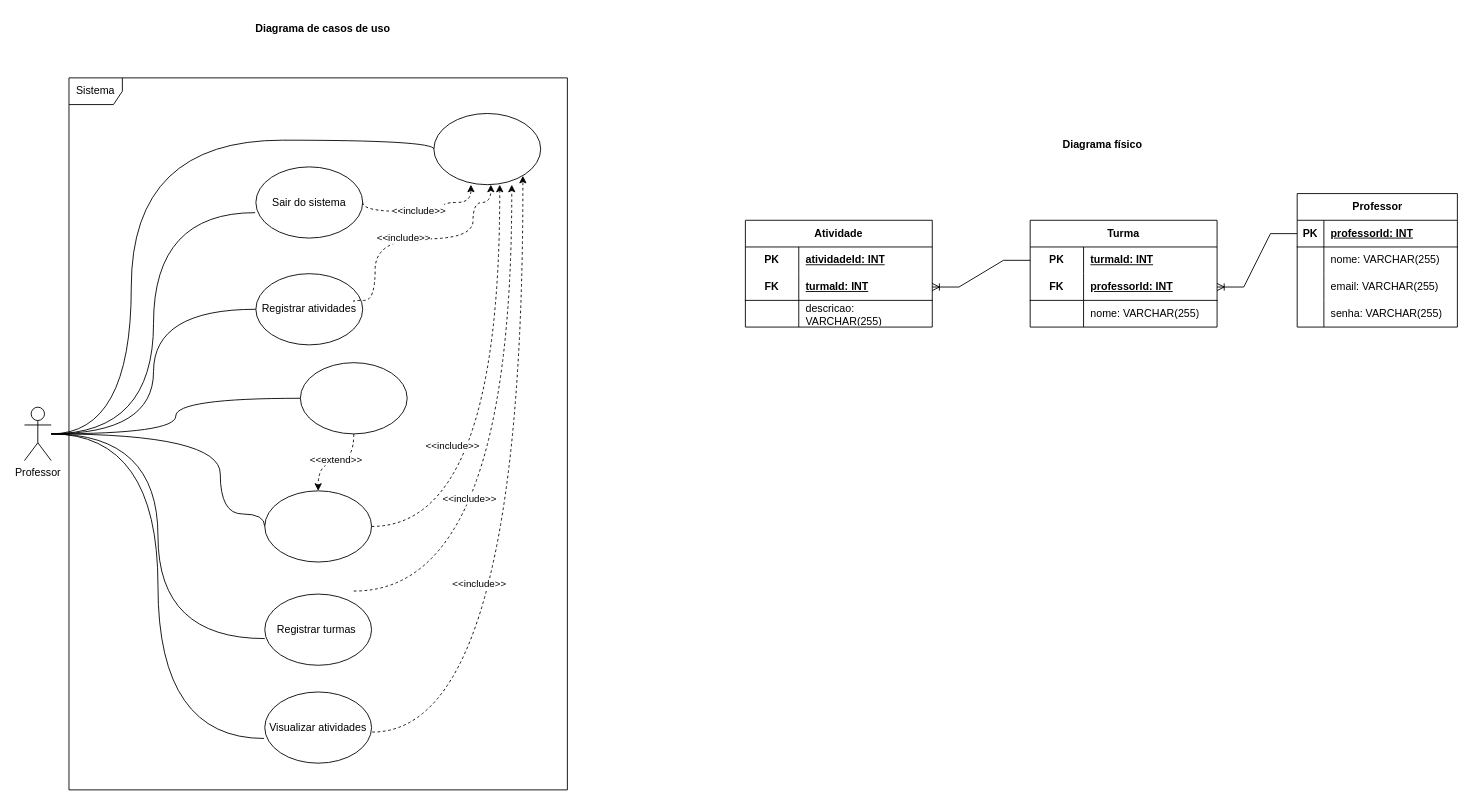
This 1473x805 diagram has some shape labels left out. The centre of each missing label's shape, as x and y in pixels:
Autenticar-se no sistema: point (487, 149)
Excluir turmas: point (353, 398)
Visualizar turmas: point (318, 526)
